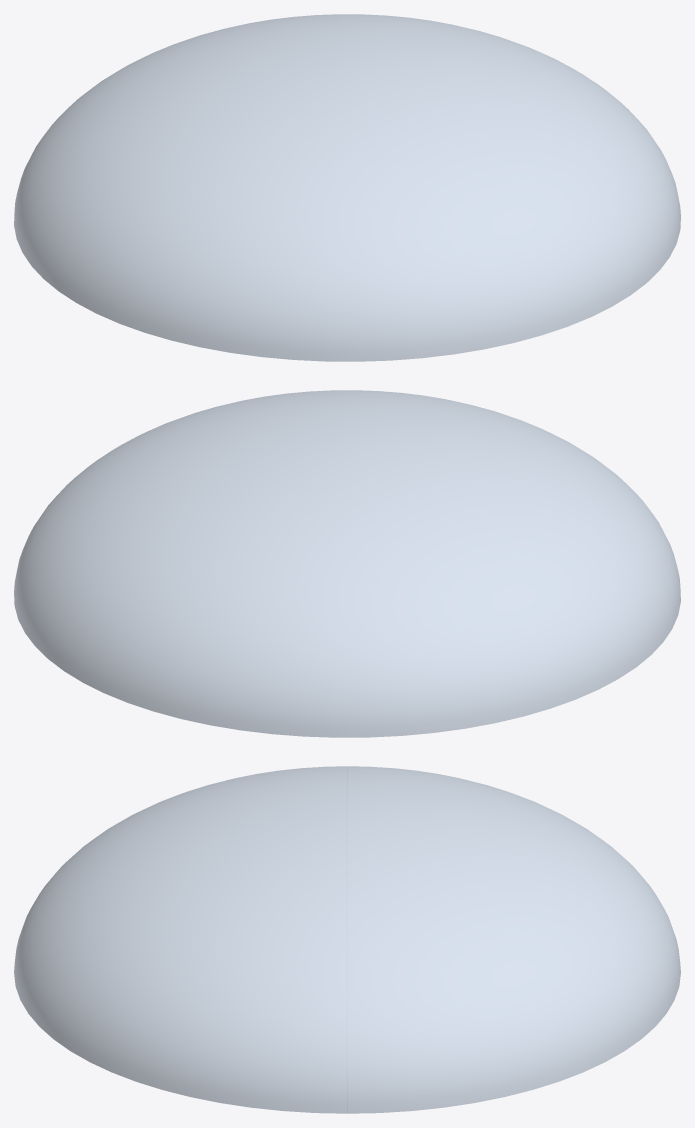
Rendered from bluechalcedony.glb.
The picture shows the model from 3 angles, top to bottom: view 1: azimuth 30°, elevation 25°; view 2: azimuth 150°, elevation 25°; view 3: azimuth 270°, elevation 25°; orthographic projection.
Parts seen in each view (by area): view 1: bluechalcedony; view 2: bluechalcedony; view 3: bluechalcedony.
Part boxes in pixels (x1,y1,x2,y2): bluechalcedony: [14, 14, 680, 361]; bluechalcedony: [14, 390, 680, 737]; bluechalcedony: [14, 766, 680, 1113].
Size of the model in its own units: 0.25 by 0.0625 by 0.25.
